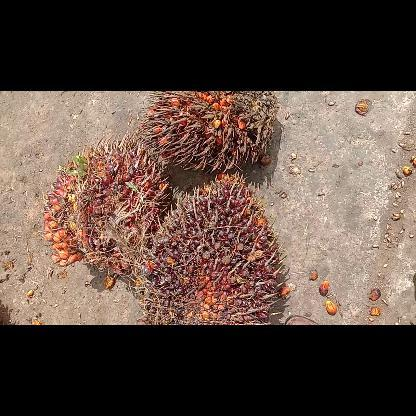Kurang masak: (136, 174, 288, 324)
TBS masak: (41, 136, 167, 280)
Terlalu masak: (135, 91, 273, 169)
